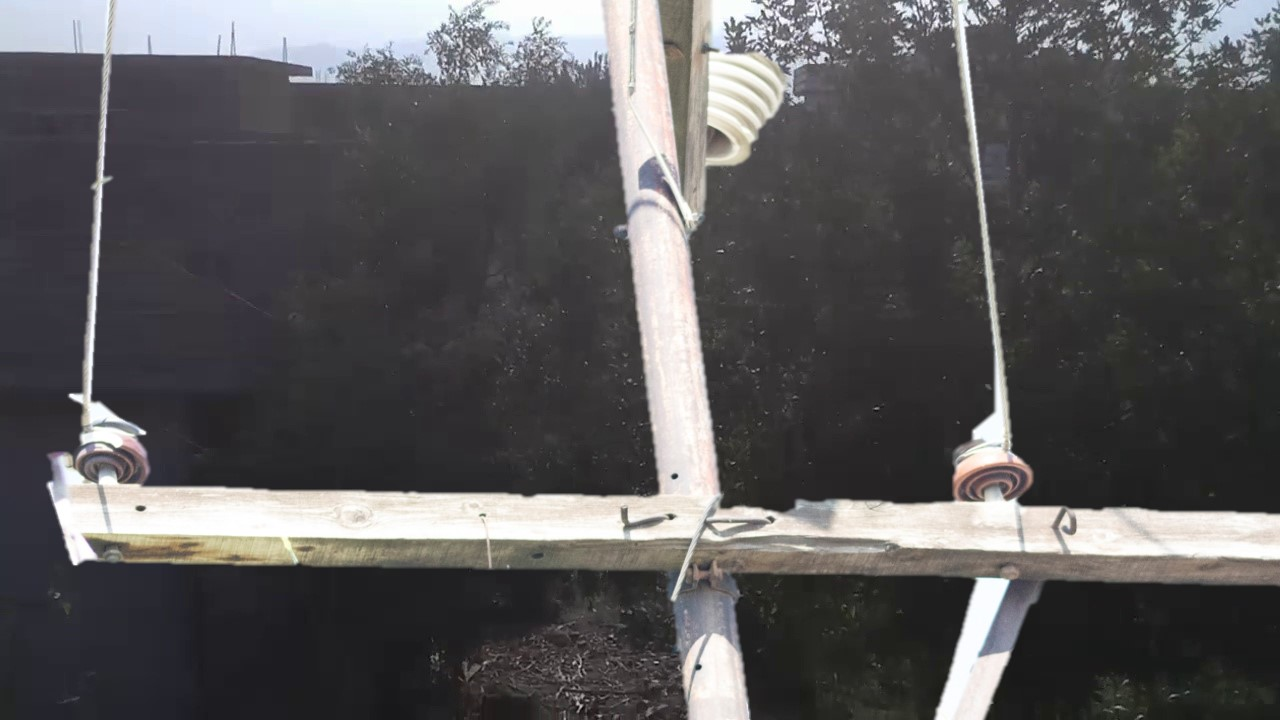defect_pin: (70, 406, 153, 486)
insulator_pin: (945, 434, 1038, 500)
